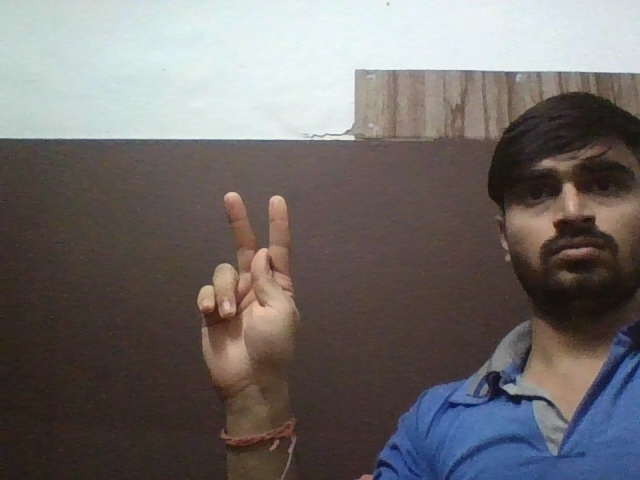K: (180, 186, 315, 392)
